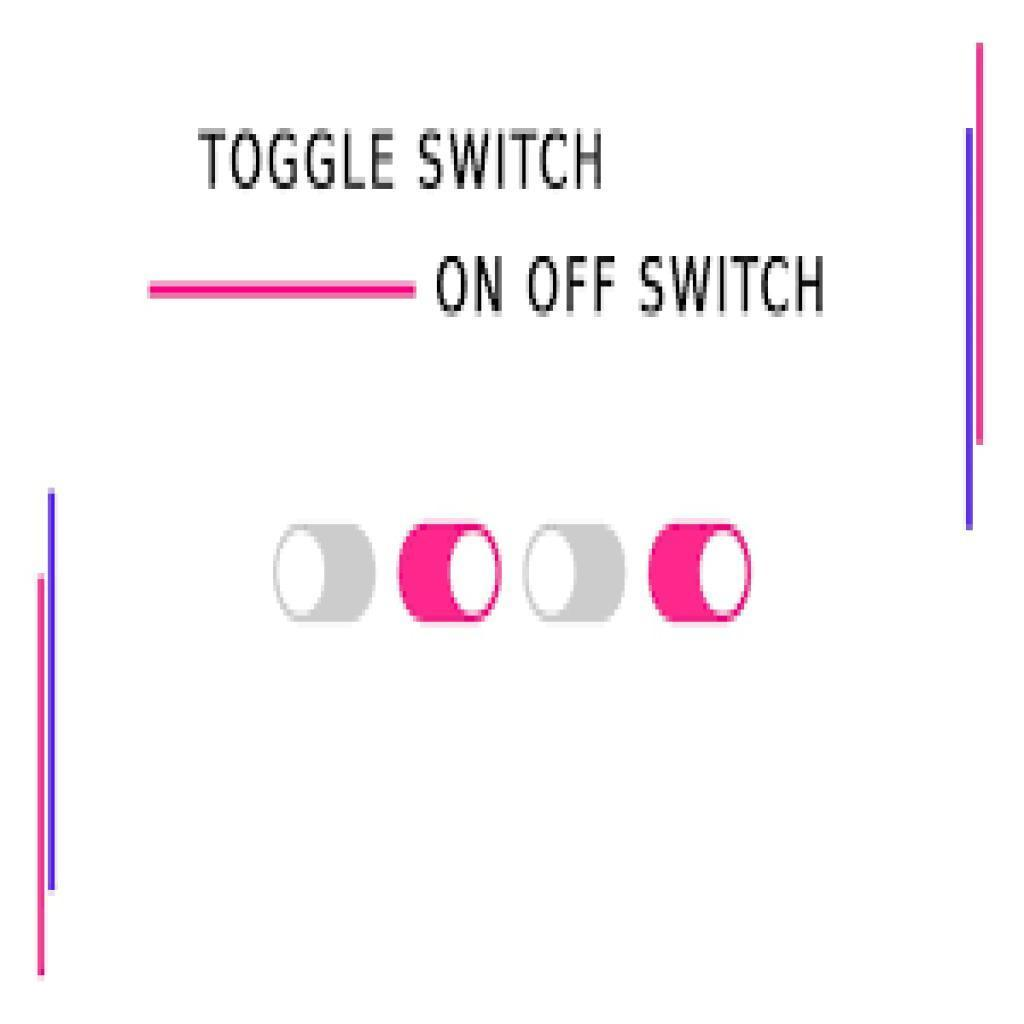switch: (522, 520, 632, 624), (398, 522, 501, 625), (650, 525, 754, 627), (276, 523, 379, 624)
